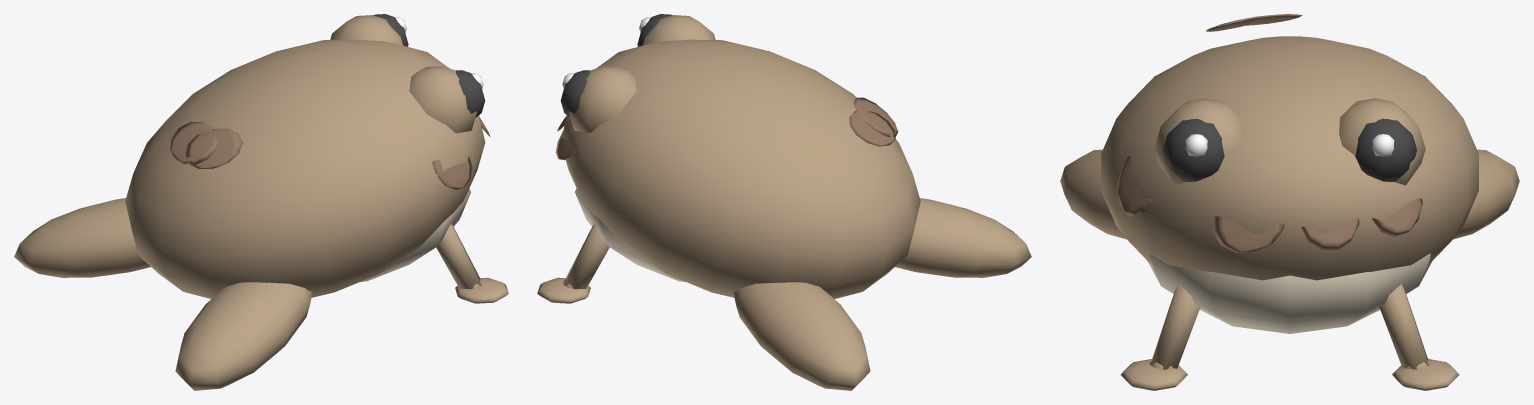
Rendered from central-formosan-toad.glb.
The picture shows the model from 3 angles, left to right: view 1: azimuth 30°, elevation 25°; view 2: azimuth 150°, elevation 25°; view 3: azimuth 270°, elevation 25°; orthographic projection. The views are drawn at different scales.
Parts seen in each view (by area): view 1: e, e.025, e.032, e.026; view 2: e, e.032, e.025, e.033; view 3: e, e.026, e.033, e.025, e.032.
Part boxes in pixels (x1=…): e: x1=125, y1=14, x2=490, y2=298; e.025: x1=175, y1=282, x2=312, y2=390; e.032: x1=14, y1=198, x2=150, y2=277; e.026: x1=436, y1=224, x2=508, y2=303; e: x1=555, y1=14, x2=920, y2=298; e.032: x1=733, y1=282, x2=870, y2=390; e.025: x1=895, y1=198, x2=1031, y2=277; e.033: x1=537, y1=224, x2=609, y2=303; e: x1=1101, y1=14, x2=1478, y2=333; e.026: x1=1120, y1=284, x2=1200, y2=390; e.033: x1=1379, y1=284, x2=1459, y2=390; e.025: x1=1060, y1=149, x2=1126, y2=239; e.032: x1=1453, y1=149, x2=1519, y2=239.
Size of the model in its own units: 0.614 by 0.35 by 0.5416.
